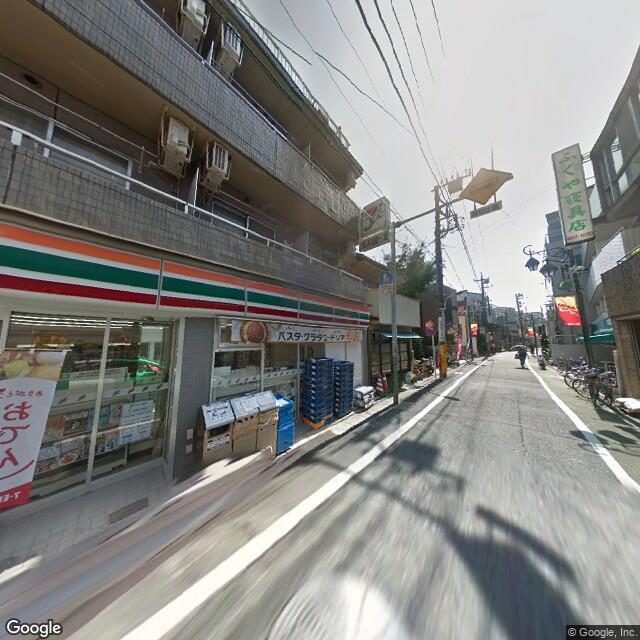7-eleven: (1, 213, 371, 338)
